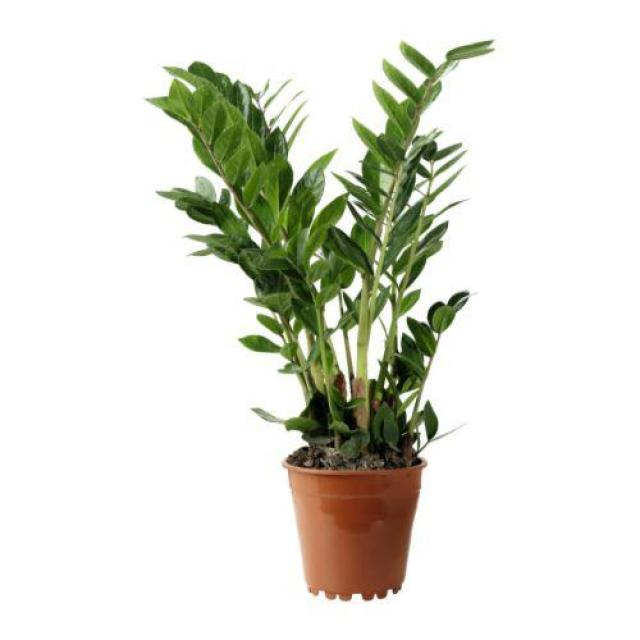plant pot: (283, 461, 426, 602)
